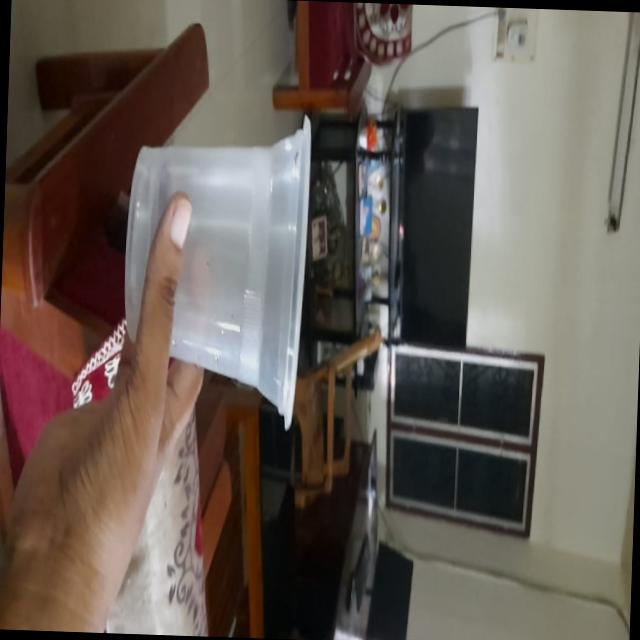Plastic - Recyclable: (118, 105, 313, 432)
